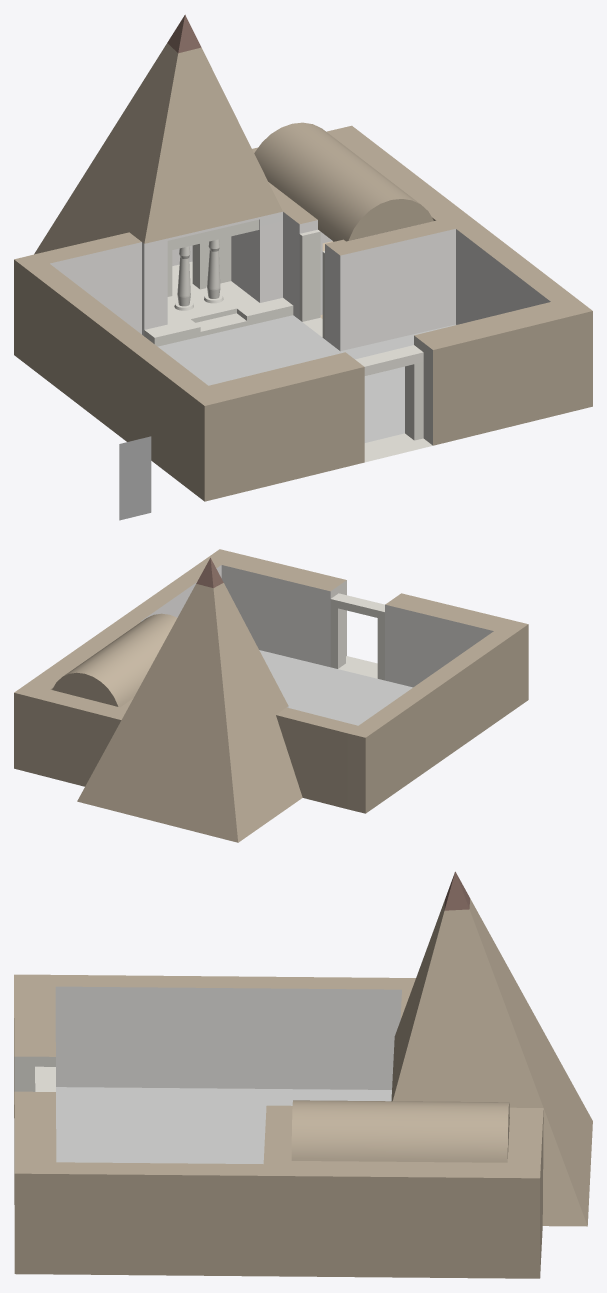
Rendered from Iniuia.glb.
3 views of the same model, one above another, from view 1: azimuth 30°, elevation 25°; view 2: azimuth 150°, elevation 25°; view 3: azimuth 270°, elevation 25° (orthographic). The views are drawn at different scales.
Visible parts, largest first — view 1: Mesh7 Model, Mesh1 Vault1 Model, Mesh8 Model, Mesh6 Component_1_1 Model, Mesh4 Column2_1_1 Model, Mesh5 Column2_1_2 Model; view 2: Mesh7 Model, Mesh1 Vault1 Model; view 3: Mesh7 Model, Mesh1 Vault1 Model.
Part boxes in pixels (x1,y1,x2,y2): Mesh7 Model: [14, 14, 592, 501]; Mesh1 Vault1 Model: [254, 122, 433, 241]; Mesh8 Model: [119, 436, 151, 520]; Mesh6 Component_1_1 Model: [167, 219, 259, 250]; Mesh4 Column2_1_1 Model: [174, 246, 193, 310]; Mesh5 Column2_1_2 Model: [204, 239, 223, 303]; Mesh7 Model: [14, 549, 528, 842]; Mesh1 Vault1 Model: [52, 613, 177, 707]; Mesh7 Model: [14, 871, 592, 1278]; Mesh1 Vault1 Model: [291, 1100, 509, 1162].
Bounding box in the file's own units: 10.52 × 6 × 10.45.
